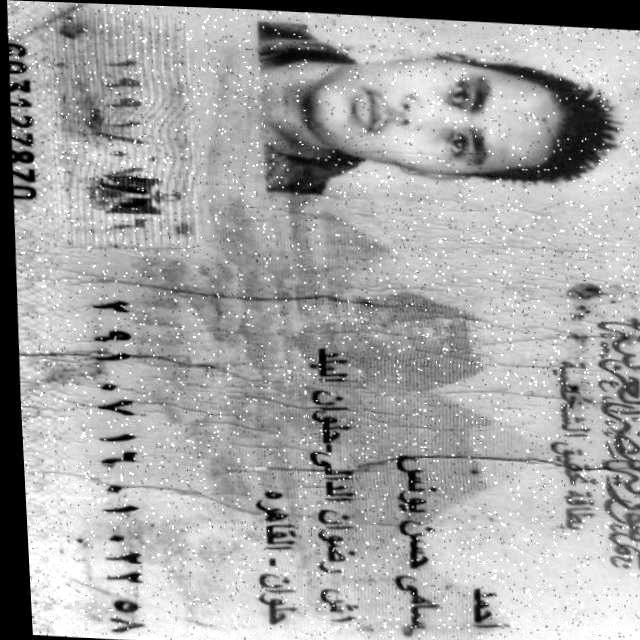id_card: (4, 0, 639, 639)
